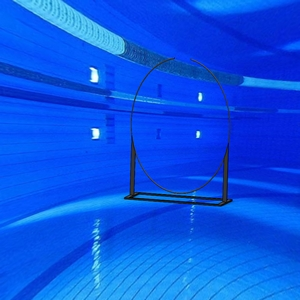circle: (122, 55, 235, 208)
